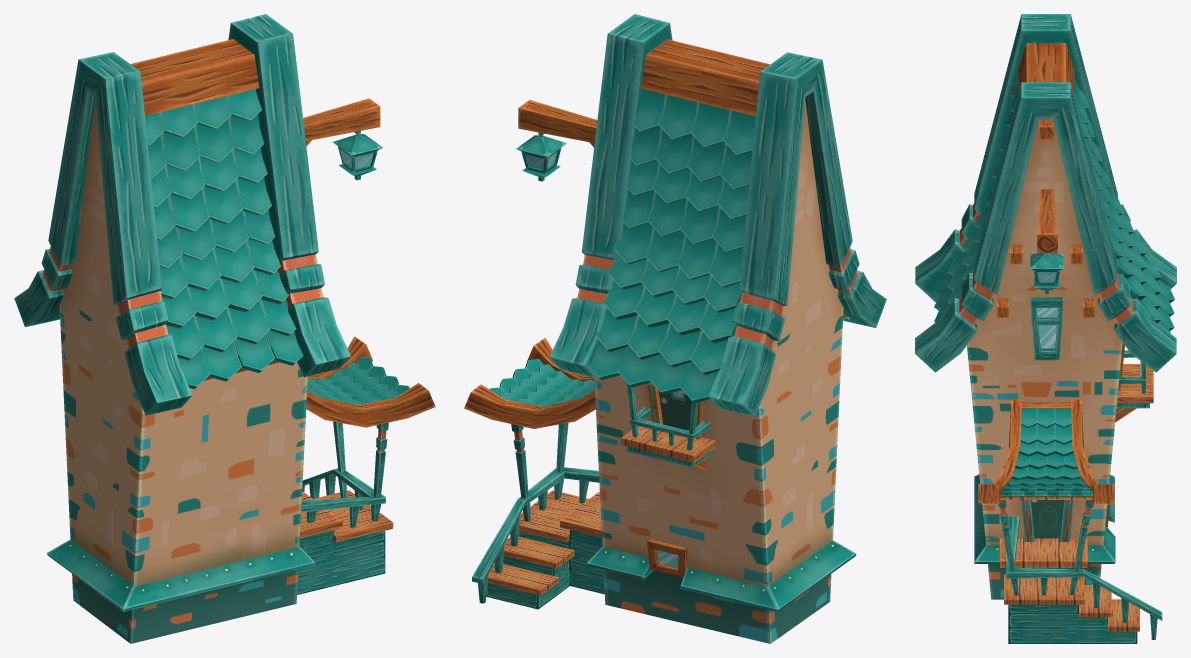
File: House.obj
3 views of the same model, side by side, from view 1: azimuth 30°, elevation 25°; view 2: azimuth 150°, elevation 25°; view 3: azimuth 270°, elevation 25° (orthographic). The views are drawn at different scales.
Parts seen in each view (by area): view 1: polySurface30_aiStandardSurface1_0; view 2: polySurface30_aiStandardSurface1_0; view 3: polySurface30_aiStandardSurface1_0.
Boxes of the visible parts, x1,y1,x2,y2 form: polySurface30_aiStandardSurface1_0: (14,14,435,643); polySurface30_aiStandardSurface1_0: (464,14,886,643); polySurface30_aiStandardSurface1_0: (915,14,1176,643).
Bounding box in the file's own units: 8.07 × 13.57 × 6.34.
